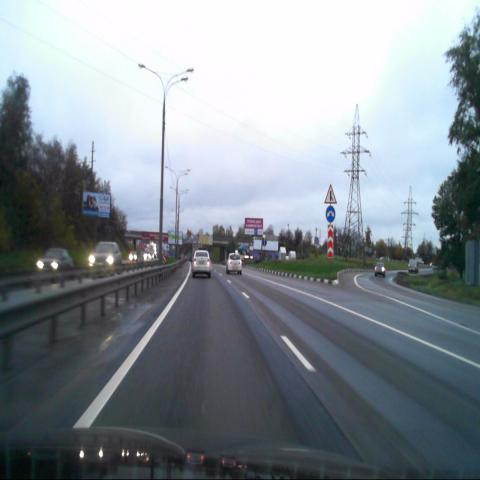2_3_6: (324, 183, 336, 204)
4_2_3: (326, 205, 336, 222)
